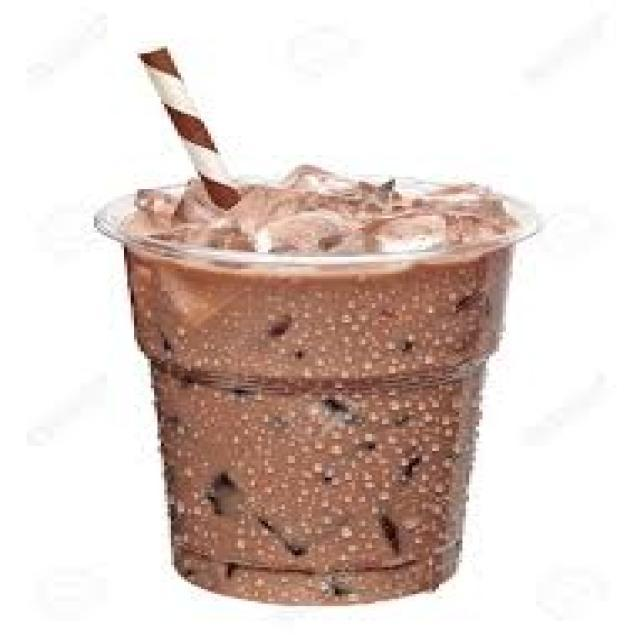cup: (95, 165, 539, 604)
